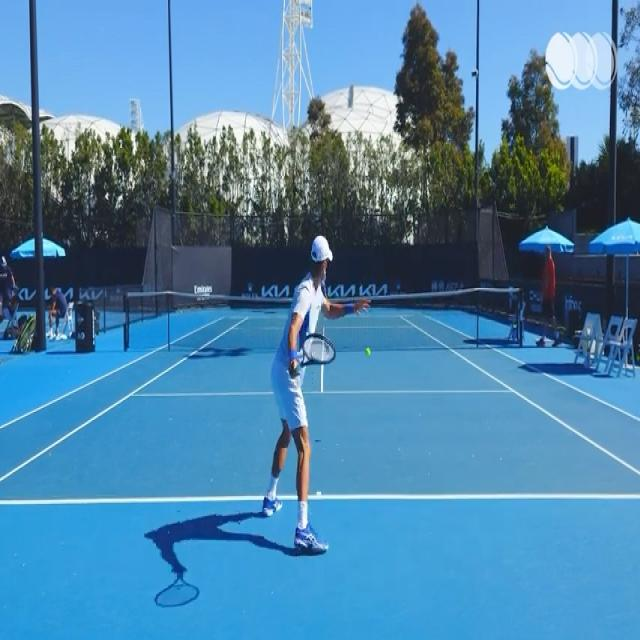forehand-ready: (262, 232, 370, 555)
